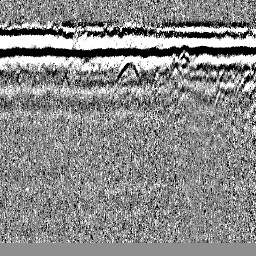cavity: (115, 55, 141, 86)
